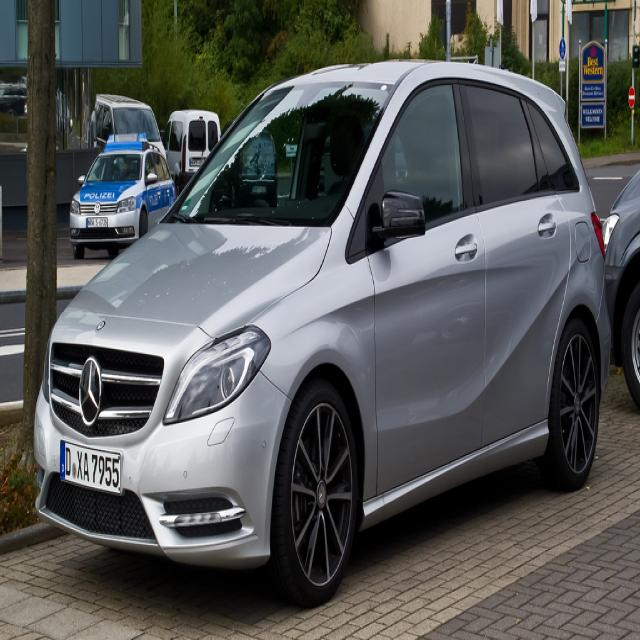car: (19, 49, 612, 607), (64, 132, 178, 255), (603, 154, 639, 407), (81, 82, 167, 166)
